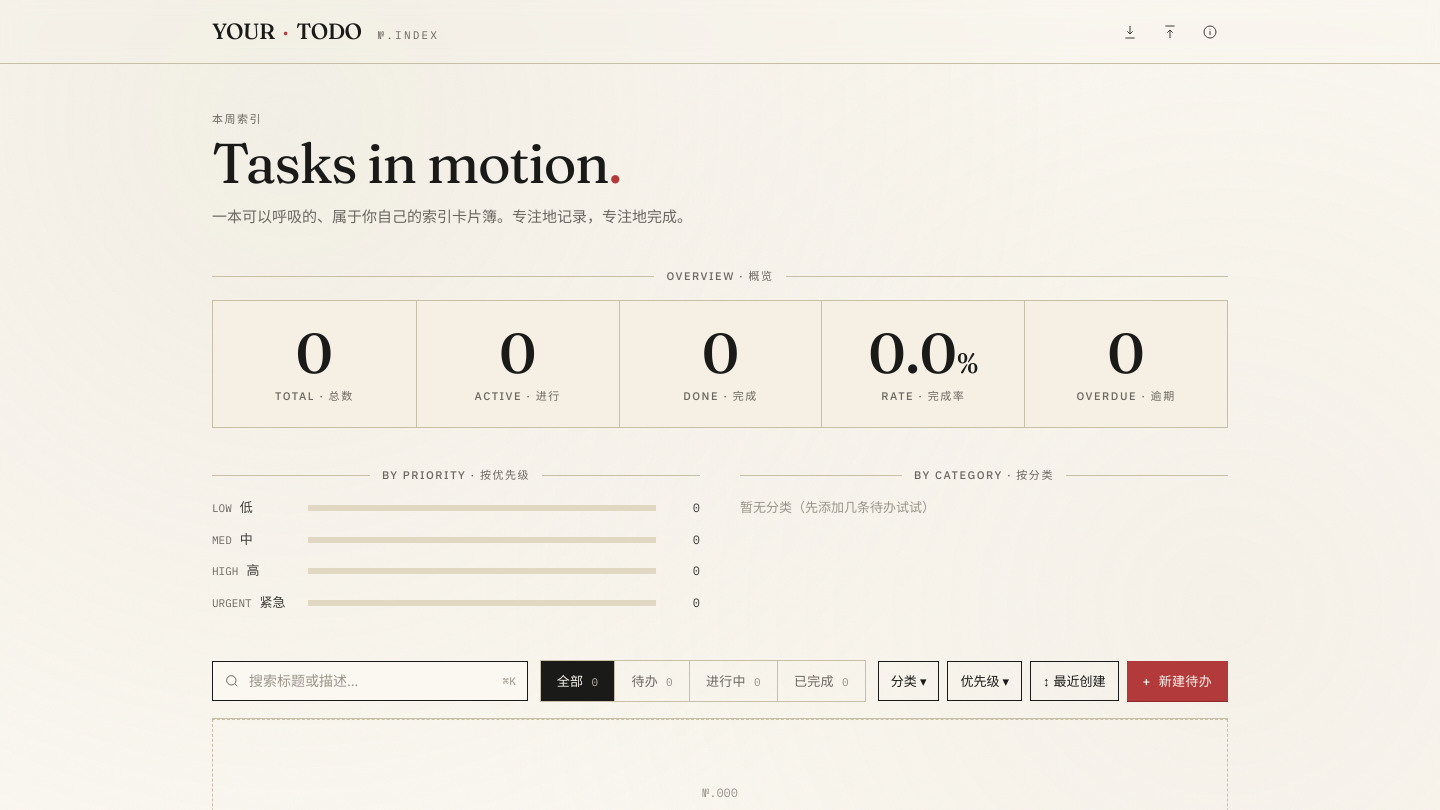
Scenario: App integration — golden path › shows initial empty state and can create a first todo
The image size is (1440, 810).
Step 1. Click the button "+ 新建待办" → (1177, 681), box [1127,661,1228,701]
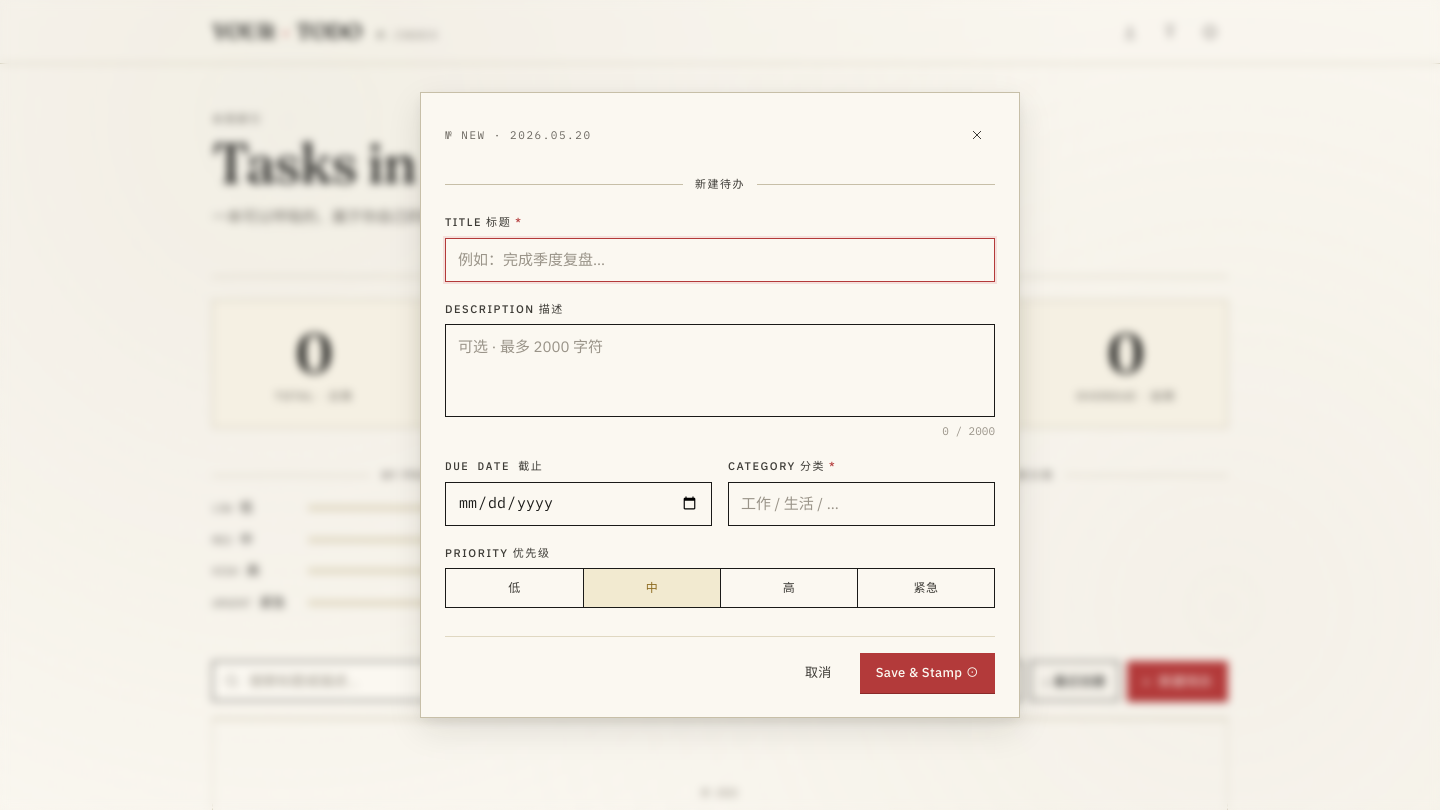
Step 2. Type "买牛奶" into the field labelled "TITLE 标题*" → (720, 260), box [445,238,995,282]
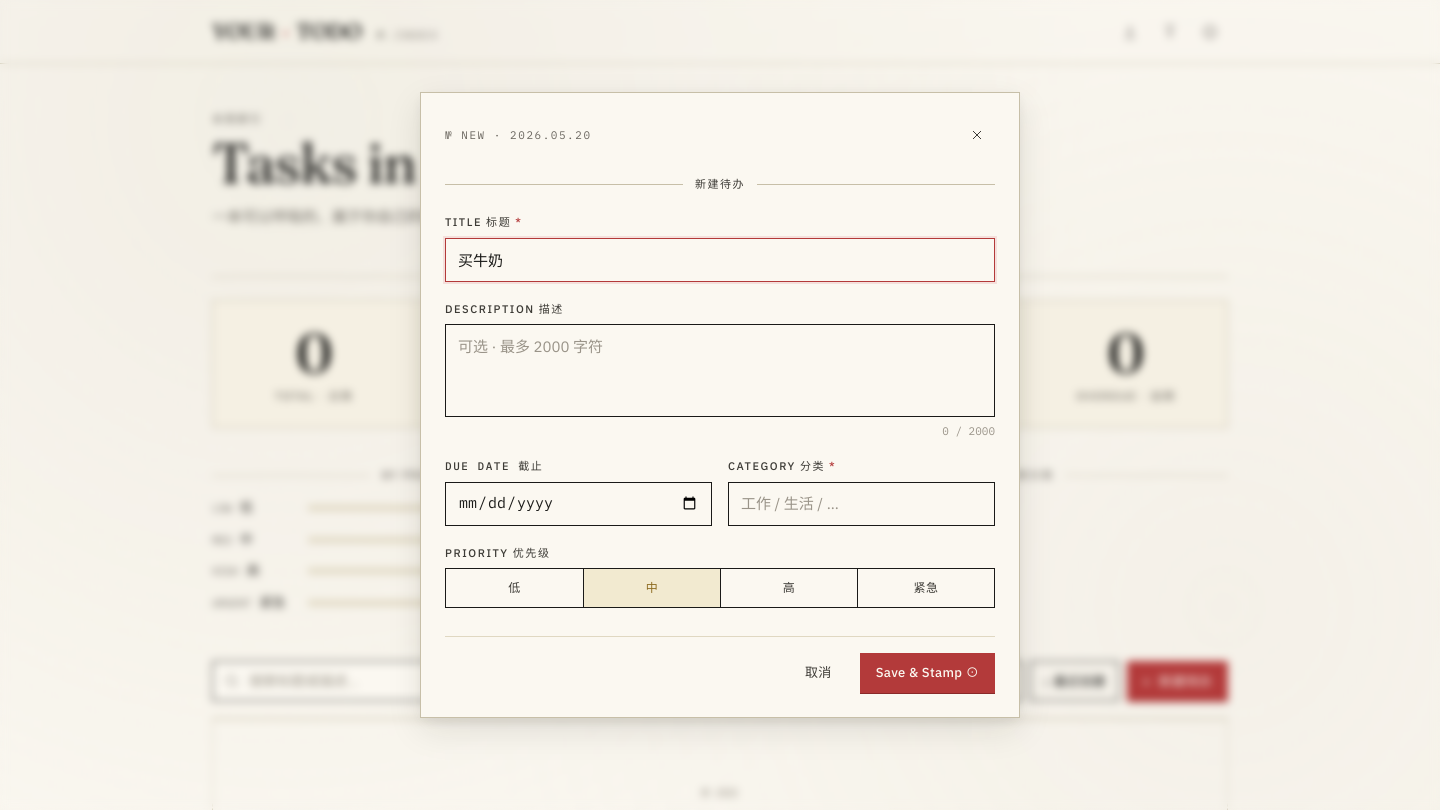
Step 3. Type "生活" into the field labelled "CATEGORY 分类*" → (862, 504), box [728,482,995,526]
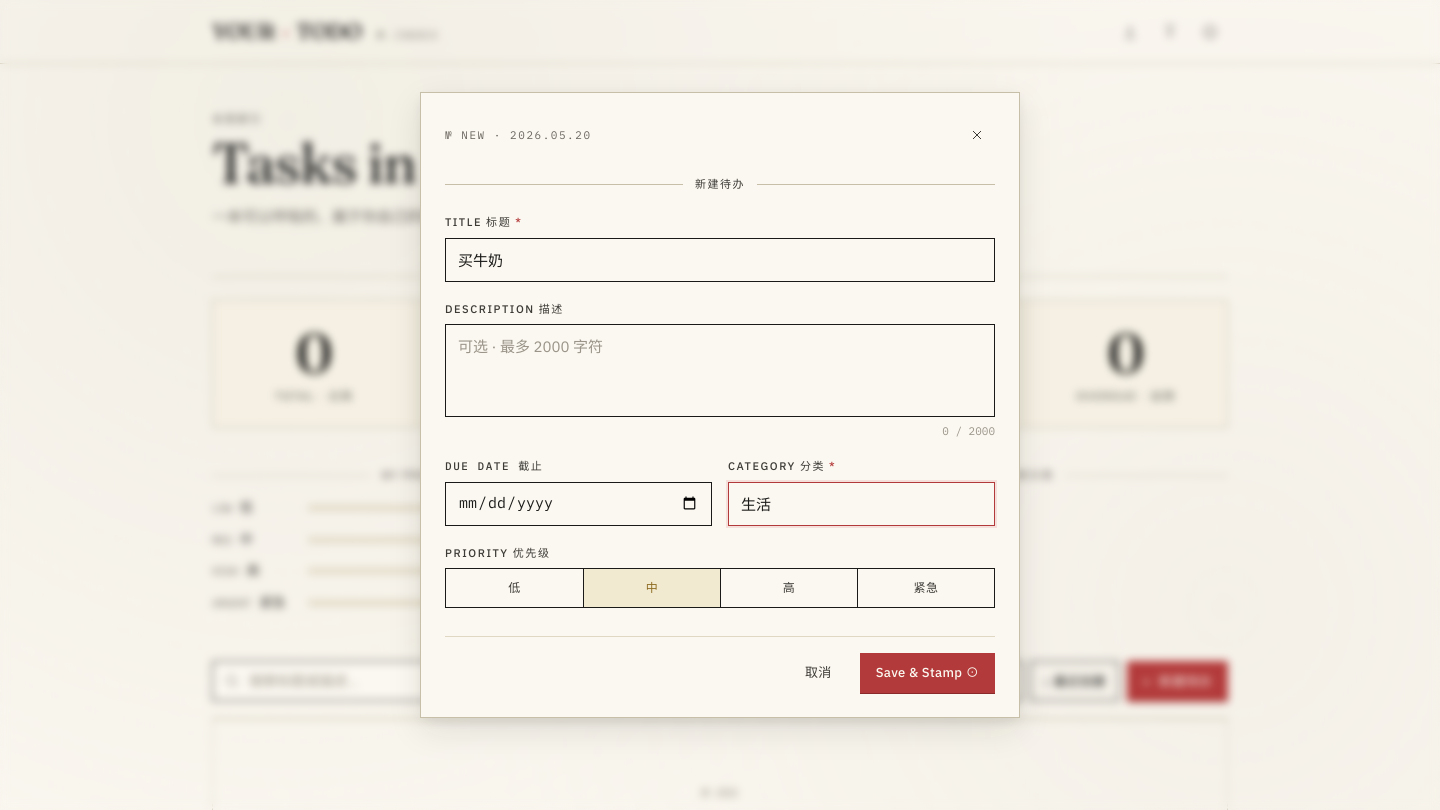
Step 4. Click the button "Save & Stamp ⊙" → (927, 673), box [860,653,995,693]
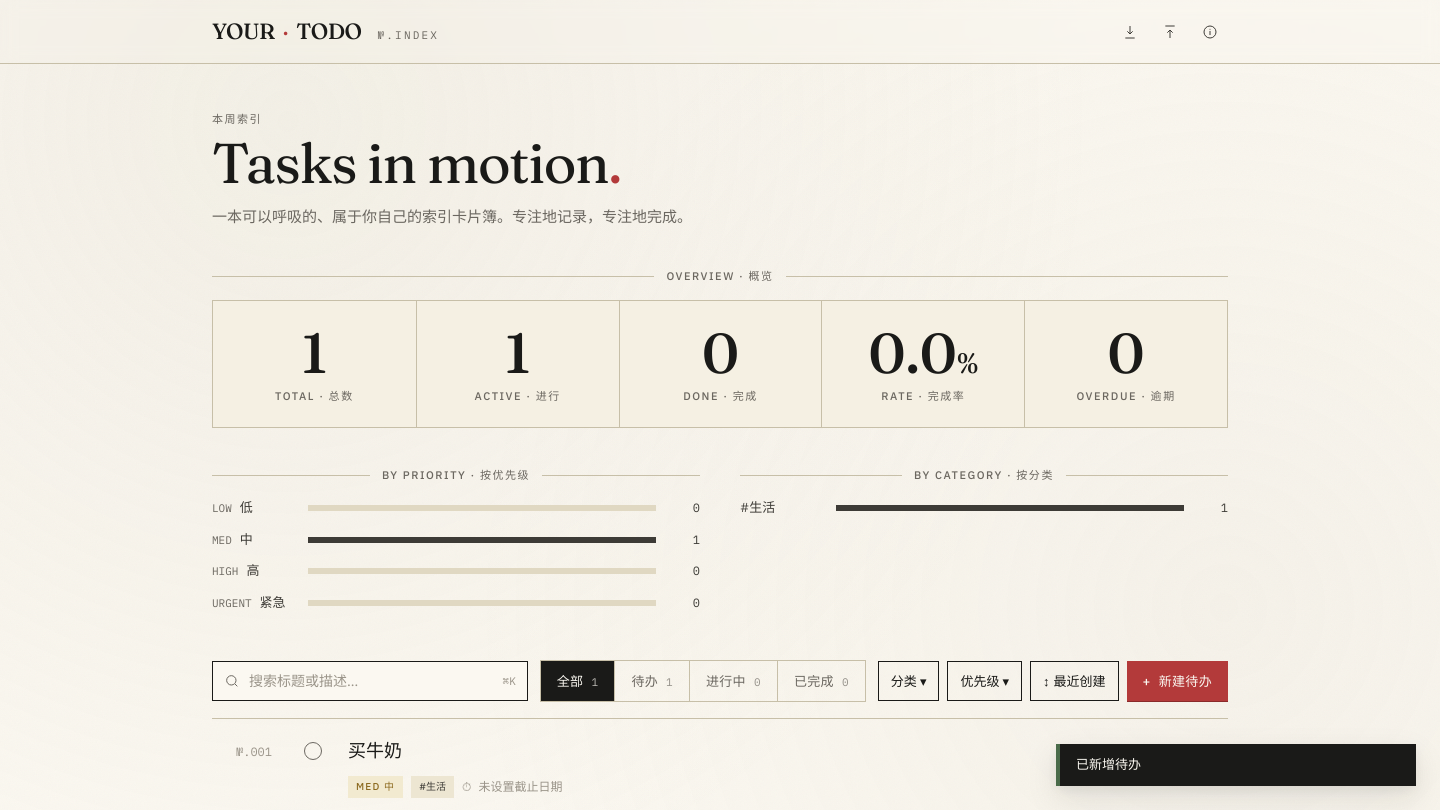
Expected: the text "买牛奶" is shown, [348,739,402,762]
